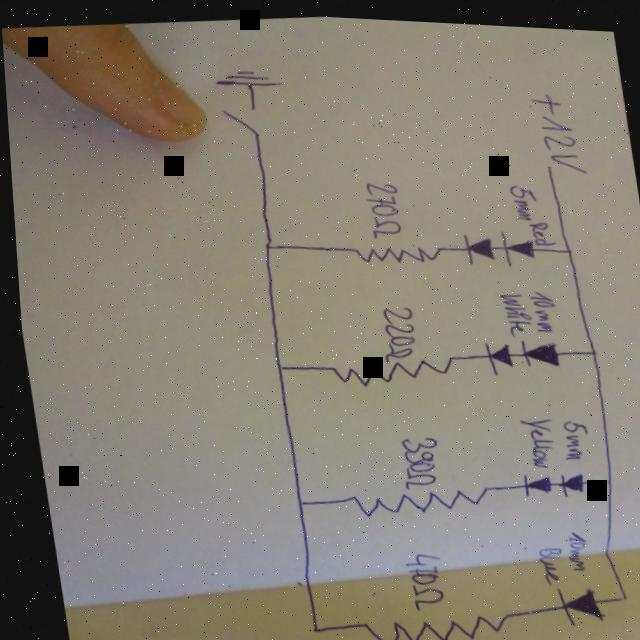diode: (547, 575, 598, 622), (495, 220, 535, 262), (458, 225, 499, 262), (478, 332, 515, 370), (513, 332, 556, 364), (515, 463, 548, 491), (553, 463, 581, 492)
ground: (210, 57, 285, 93)
junction: (253, 232, 280, 253), (297, 616, 320, 633), (266, 355, 288, 371), (284, 491, 306, 507), (584, 340, 596, 350), (560, 238, 572, 248), (612, 585, 623, 595), (598, 469, 608, 479)
resistor: (333, 475, 488, 520), (351, 598, 509, 640), (316, 344, 452, 389), (346, 232, 446, 266)
switch: (216, 97, 267, 139)
terminal: (538, 154, 554, 170)
text: (526, 80, 587, 170), (386, 427, 440, 487), (394, 543, 443, 609), (357, 171, 404, 233), (371, 298, 419, 358), (516, 406, 556, 462), (551, 410, 588, 455), (523, 281, 557, 327), (496, 285, 529, 328), (505, 175, 539, 216), (556, 522, 585, 566), (529, 538, 560, 579), (525, 212, 554, 240)
